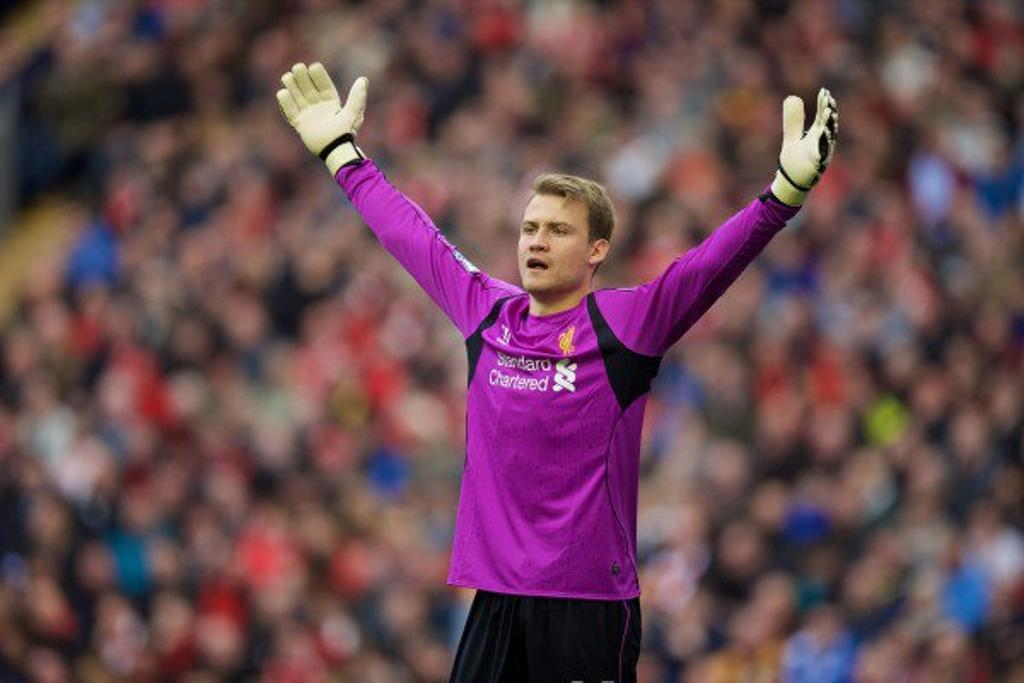face: (520, 190, 592, 292)
